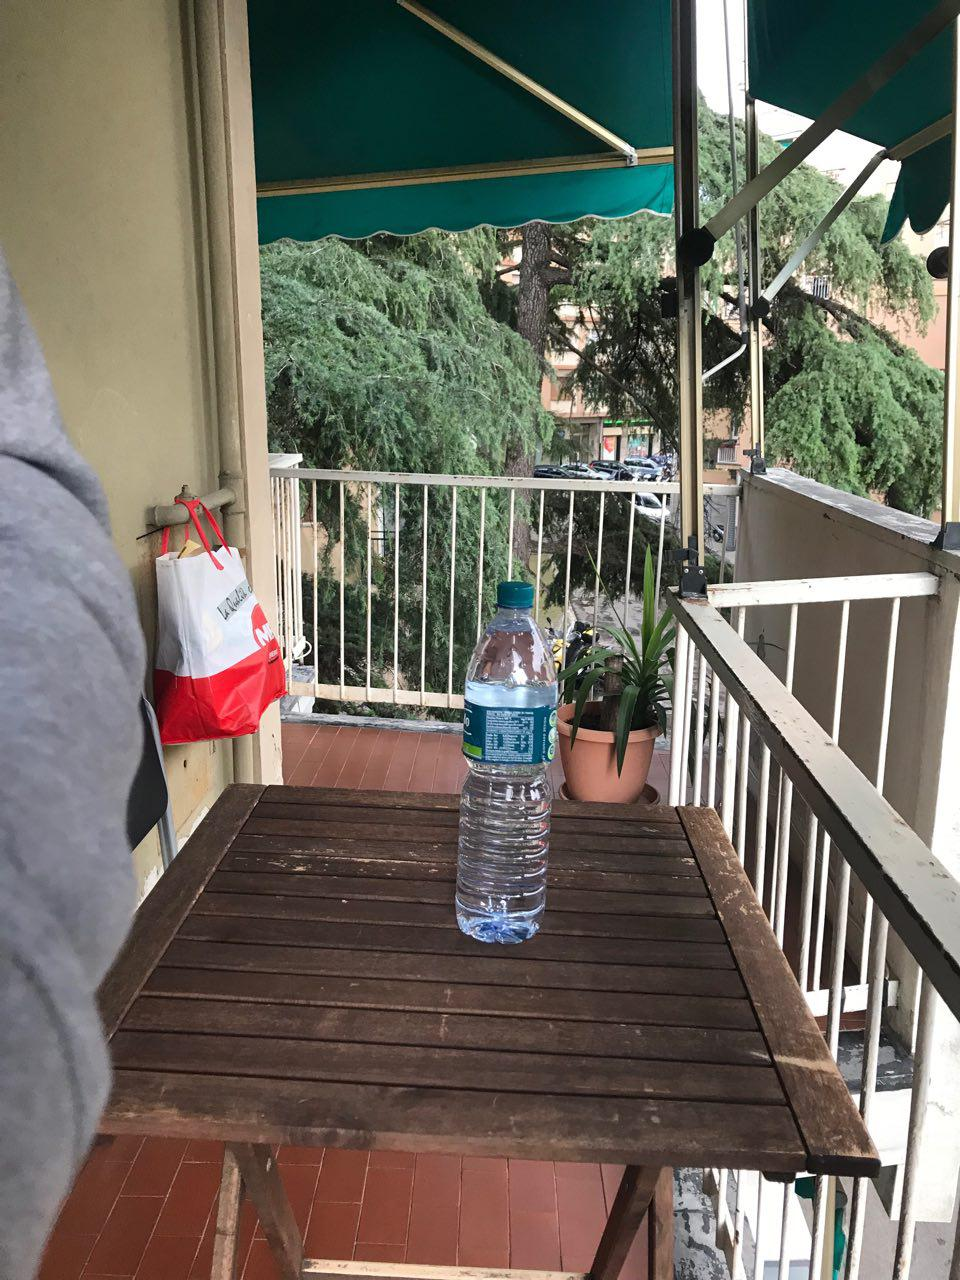san_bernardo: (454, 582, 557, 944)
